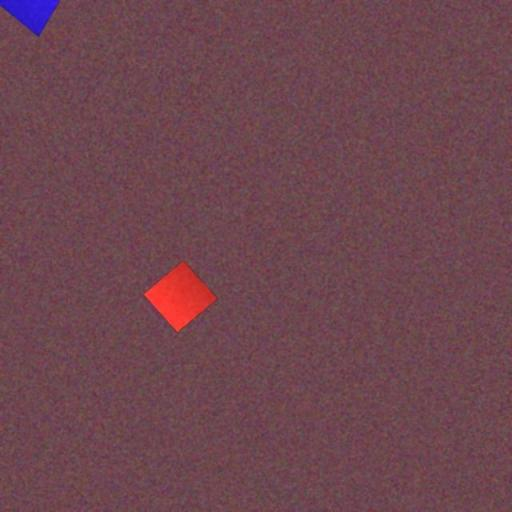RED_SQUARE: (142, 260, 218, 334)
